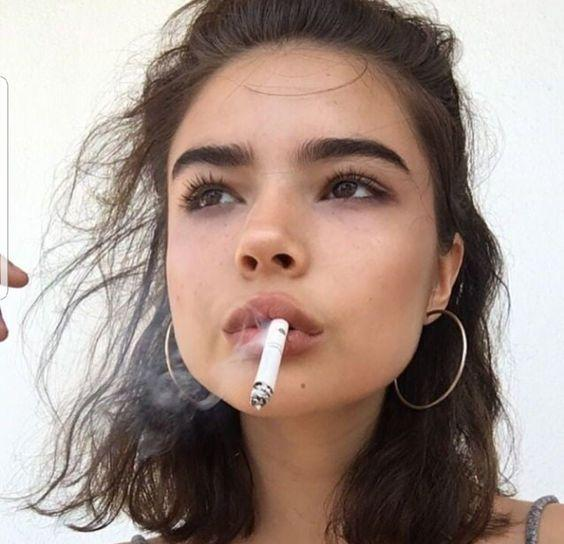cigarette: (250, 319, 288, 411)
